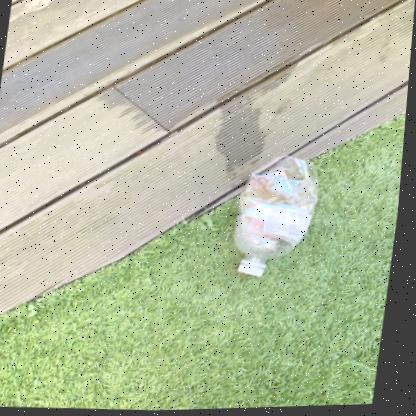Plastic: (237, 157, 320, 277)
